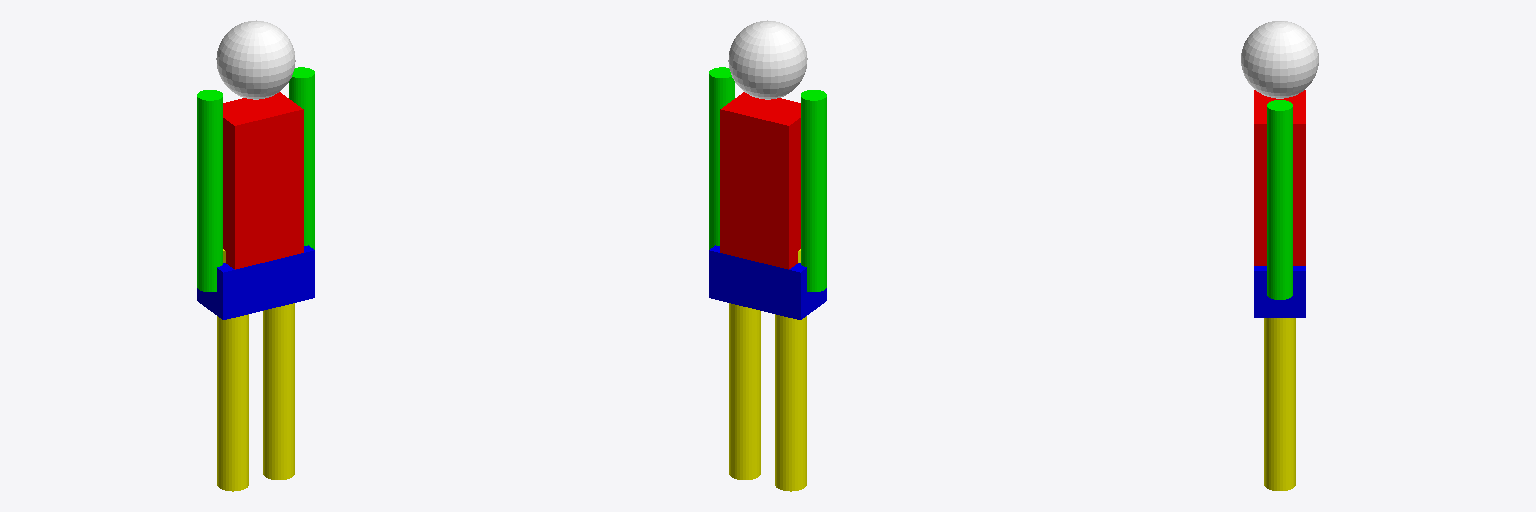
URDF robot description (humanoid_robot_complete):
<?xml version="1.0"?>
<robot name="humanoid_robot_complete">
  <!-- Base link -->
  <link name="base_link">
    <visual>
      <geometry>
        <box size="0.2 0.1 0.1"/>
      </geometry>
      <material name="blue">
        <color rgba="0 0 1 1"/>
      </material>
    </visual>
    <collision>
      <geometry>
        <box size="0.2 0.1 0.1"/>
      </geometry>
    </collision>
    <inertial>
      <mass value="1"/>
      <inertia ixx="0.01" ixy="0" ixz="0" iyy="0.01" iyz="0" izz="0.01"/>
    </inertial>
  </link>

  <!-- Torso -->
  <link name="torso">
    <visual>
      <geometry>
        <box size="0.15 0.1 0.3"/>
      </geometry>
      <material name="red">
        <color rgba="1 0 0 1"/>
      </material>
    </visual>
    <collision>
      <geometry>
        <box size="0.15 0.1 0.3"/>
      </geometry>
    </collision>
    <inertial>
      <mass value="2"/>
      <inertia ixx="0.02" ixy="0" ixz="0" iyy="0.02" iyz="0" izz="0.02"/>
    </inertial>
  </link>

  <joint name="base_to_torso" type="fixed">
    <parent link="base_link"/>
    <child link="torso"/>
    <origin xyz="0 0 0.2"/>
  </joint>

  <!-- Head -->
  <link name="head">
    <visual>
      <geometry>
        <sphere radius="0.075"/>
      </geometry>
      <material name="white">
        <color rgba="1 1 1 1"/>
      </material>
    </visual>
    <collision>
      <geometry>
        <sphere radius="0.075"/>
      </geometry>
    </collision>
    <inertial>
      <mass value="0.5"/>
      <inertia ixx="0.001" ixy="0" ixz="0" iyy="0.001" iyz="0" izz="0.001"/>
    </inertial>
  </link>

  <joint name="torso_to_head" type="fixed">
    <parent link="torso"/>
    <child link="head"/>
    <origin xyz="0 0 0.25"/>
  </joint>

  <!-- Left Arm -->
  <link name="left_upper_arm">
    <visual>
      <geometry>
        <cylinder length="0.2" radius="0.025"/>
      </geometry>
      <material name="green">
        <color rgba="0 1 0 1"/>
      </material>
    </visual>
    <collision>
      <geometry>
        <cylinder length="0.2" radius="0.025"/>
      </geometry>
    </collision>
    <inertial>
      <mass value="0.5"/>
      <inertia ixx="0.001" ixy="0" ixz="0" iyy="0.001" iyz="0" izz="0.001"/>
    </inertial>
  </link>

  <joint name="left_shoulder_pitch" type="revolute">
    <parent link="torso"/>
    <child link="left_upper_arm"/>
    <origin xyz="0.1 0 0.1"/>
    <axis xyz="0 1 0"/>
    <limit lower="-1.57" upper="1.57" effort="100" velocity="1"/>
  </joint>

  <link name="left_lower_arm">
    <visual>
      <geometry>
        <cylinder length="0.2" radius="0.025"/>
      </geometry>
      <material name="green">
        <color rgba="0 1 0 1"/>
      </material>
    </visual>
    <collision>
      <geometry>
        <cylinder length="0.2" radius="0.025"/>
      </geometry>
    </collision>
    <inertial>
      <mass value="0.3"/>
      <inertia ixx="0.001" ixy="0" ixz="0" iyy="0.001" iyz="0" izz="0.001"/>
    </inertial>
  </link>

  <joint name="left_elbow" type="revolute">
    <parent link="left_upper_arm"/>
    <child link="left_lower_arm"/>
    <origin xyz="0 0 -0.2"/>
    <axis xyz="0 1 0"/>
    <limit lower="0" upper="1.57" effort="100" velocity="1"/>
  </joint>

  <!-- Right Arm -->
  <link name="right_upper_arm">
    <visual>
      <geometry>
        <cylinder length="0.2" radius="0.025"/>
      </geometry>
      <material name="green">
        <color rgba="0 1 0 1"/>
      </material>
    </visual>
    <collision>
      <geometry>
        <cylinder length="0.2" radius="0.025"/>
      </geometry>
    </collision>
    <inertial>
      <mass value="0.5"/>
      <inertia ixx="0.001" ixy="0" ixz="0" iyy="0.001" iyz="0" izz="0.001"/>
    </inertial>
  </link>

  <joint name="right_shoulder_pitch" type="revolute">
    <parent link="torso"/>
    <child link="right_upper_arm"/>
    <origin xyz="-0.1 0 0.1"/>
    <axis xyz="0 1 0"/>
    <limit lower="-1.57" upper="1.57" effort="100" velocity="1"/>
  </joint>

  <link name="right_lower_arm">
    <visual>
      <geometry>
        <cylinder length="0.2" radius="0.025"/>
      </geometry>
      <material name="green">
        <color rgba="0 1 0 1"/>
      </material>
    </visual>
    <collision>
      <geometry>
        <cylinder length="0.2" radius="0.025"/>
      </geometry>
    </collision>
    <inertial>
      <mass value="0.3"/>
      <inertia ixx="0.001" ixy="0" ixz="0" iyy="0.001" iyz="0" izz="0.001"/>
    </inertial>
  </link>

  <joint name="right_elbow" type="revolute">
    <parent link="right_upper_arm"/>
    <child link="right_lower_arm"/>
    <origin xyz="0 0 -0.2"/>
    <axis xyz="0 1 0"/>
    <limit lower="0" upper="1.57" effort="100" velocity="1"/>
  </joint>

  <!-- Left Leg -->
  <link name="left_upper_leg">
    <visual>
      <geometry>
        <cylinder length="0.25" radius="0.03"/>
      </geometry>
      <material name="yellow">
        <color rgba="1 1 0 1"/>
      </material>
    </visual>
    <collision>
      <geometry>
        <cylinder length="0.25" radius="0.03"/>
      </geometry>
    </collision>
    <inertial>
      <mass value="0.8"/>
      <inertia ixx="0.002" ixy="0" ixz="0" iyy="0.002" iyz="0" izz="0.002"/>
    </inertial>
  </link>

  <joint name="left_hip_pitch" type="revolute">
    <parent link="base_link"/>
    <child link="left_upper_leg"/>
    <origin xyz="0.05 0 -0.05"/>
    <axis xyz="0 1 0"/>
    <limit lower="-0.785" upper="0.785" effort="100" velocity="1"/>
  </joint>

  <link name="left_lower_leg">
    <visual>
      <geometry>
        <cylinder length="0.25" radius="0.03"/>
      </geometry>
      <material name="yellow">
        <color rgba="1 1 0 1"/>
      </material>
    </visual>
    <collision>
      <geometry>
        <cylinder length="0.25" radius="0.03"/>
      </geometry>
    </collision>
    <inertial>
      <mass value="0.6"/>
      <inertia ixx="0.002" ixy="0" ixz="0" iyy="0.002" iyz="0" izz="0.002"/>
    </inertial>
  </link>

  <joint name="left_knee" type="revolute">
    <parent link="left_upper_leg"/>
    <child link="left_lower_leg"/>
    <origin xyz="0 0 -0.25"/>
    <axis xyz="0 1 0"/>
    <limit lower="0" upper="1.57" effort="100" velocity="1"/>
  </joint>

  <!-- Right Leg -->
  <link name="right_upper_leg">
    <visual>
      <geometry>
        <cylinder length="0.25" radius="0.03"/>
      </geometry>
      <material name="yellow">
        <color rgba="1 1 0 1"/>
      </material>
    </visual>
    <collision>
      <geometry>
        <cylinder length="0.25" radius="0.03"/>
      </geometry>
    </collision>
    <inertial>
      <mass value="0.8"/>
      <inertia ixx="0.002" ixy="0" ixz="0" iyy="0.002" iyz="0" izz="0.002"/>
    </inertial>
  </link>

  <joint name="right_hip_pitch" type="revolute">
    <parent link="base_link"/>
    <child link="right_upper_leg"/>
    <origin xyz="-0.05 0 -0.05"/>
    <axis xyz="0 1 0"/>
    <limit lower="-0.785" upper="0.785" effort="100" velocity="1"/>
  </joint>

  <link name="right_lower_leg">
    <visual>
      <geometry>
        <cylinder length="0.25" radius="0.03"/>
      </geometry>
      <material name="yellow">
        <color rgba="1 1 0 1"/>
      </material>
    </visual>
    <collision>
      <geometry>
        <cylinder length="0.25" radius="0.03"/>
      </geometry>
    </collision>
    <inertial>
      <mass value="0.6"/>
      <inertia ixx="0.002" ixy="0" ixz="0" iyy="0.002" iyz="0" izz="0.002"/>
    </inertial>
  </link>

  <joint name="right_knee" type="revolute">
    <parent link="right_upper_leg"/>
    <child link="right_lower_leg"/>
    <origin xyz="0 0 -0.25"/>
    <axis xyz="0 1 0"/>
    <limit lower="0" upper="1.57" effort="100" velocity="1"/>
  </joint>

  <!-- Sensors -->
  <gazebo reference="head">
    <sensor name="camera" type="camera">
      <always_on>true</always_on>
      <update_rate>30</update_rate>
      <camera name="head_camera">
        <horizontal_fov>1.047</horizontal_fov>
        <image>
          <width>640</width>
          <height>480</height>
          <format>R8G8B8</format>
        </image>
        <clip>
          <near>0.1</near>
          <far>100</far>
        </clip>
      </camera>
    </sensor>
  </gazebo>

  <gazebo reference="torso">
    <sensor name="imu" type="imu">
      <always_on>true</always_on>
      <update_rate>100</update_rate>
    </sensor>
  </gazebo>

  <!-- Gazebo plugin for ros_control -->
  <gazebo>
    <plugin name="gazebo_ros_control" filename="libgazebo_ros_control.so">
      <robotNamespace>/humanoid_robot</robotNamespace>
    </plugin>
  </gazebo>
</robot>

--- Facts derived from the render (not from the file) ---
The picture shows the robot from 3 angles, left to right: view 1: azimuth 30°, elevation 25°; view 2: azimuth 150°, elevation 25°; view 3: azimuth 270°, elevation 25°; orthographic projection.
Robot: humanoid_robot_complete — 11 links, 10 joints (8 revolute, 2 fixed); root link base_link; default pose: every joint at zero.
Links seen in each view (by area): view 1: torso, base_link, head, left_lower_leg, right_lower_leg, right_upper_arm, right_lower_arm, right_upper_leg, left_upper_leg, left_upper_arm, left_lower_arm; view 2: torso, base_link, head, left_lower_leg, right_lower_leg, right_upper_arm, right_lower_arm, right_upper_leg, left_upper_leg, left_upper_arm, left_lower_arm; view 3: head, torso, left_lower_leg, left_upper_arm, left_lower_arm, base_link, left_upper_leg.
Link boxes in pixels (x1,y1,x2,y2): torso: [223, 92, 303, 269]; base_link: [197, 245, 314, 319]; head: [216, 20, 295, 99]; left_lower_leg: [263, 355, 294, 479]; right_lower_leg: [217, 366, 248, 491]; right_upper_arm: [197, 90, 222, 196]; right_lower_arm: [197, 192, 222, 291]; right_upper_leg: [217, 249, 248, 371]; left_upper_leg: [263, 303, 294, 360]; left_upper_arm: [289, 67, 314, 173]; left_lower_arm: [304, 170, 314, 249]; torso: [720, 92, 800, 269]; base_link: [709, 245, 826, 319]; head: [728, 20, 807, 99]; left_lower_leg: [729, 355, 760, 479]; right_lower_leg: [775, 366, 806, 491]; right_upper_arm: [801, 90, 826, 196]; right_lower_arm: [801, 192, 826, 291]; right_upper_leg: [775, 249, 806, 371]; left_upper_leg: [729, 303, 760, 360]; left_upper_arm: [709, 67, 734, 173]; left_lower_arm: [709, 170, 719, 249]; head: [1241, 21, 1318, 98]; torso: [1254, 90, 1305, 265]; left_lower_leg: [1264, 367, 1295, 490]; left_upper_arm: [1267, 100, 1292, 205]; left_lower_arm: [1267, 202, 1292, 299]; base_link: [1254, 266, 1305, 317]; left_upper_leg: [1264, 318, 1295, 372].
Bounding box of the posed robot: 0.25 × 0.15 × 0.95 m (x, y, z).
Geometry: primitives only (box / cylinder / sphere), no mesh files.